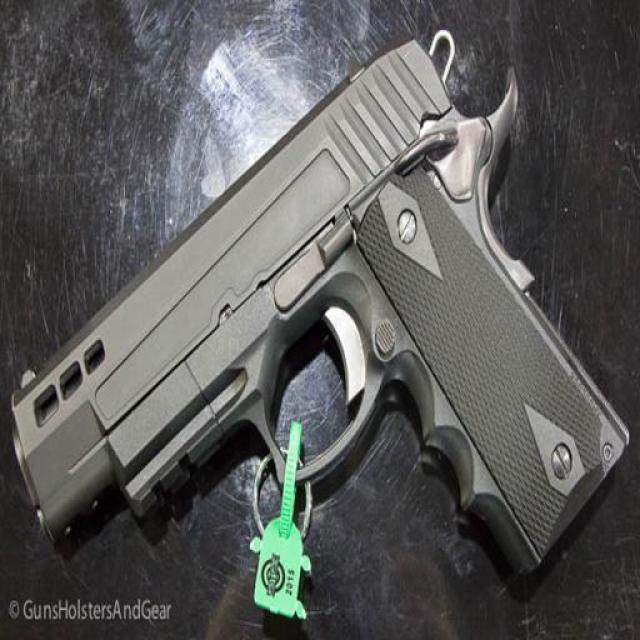pistol: (8, 28, 629, 599)
